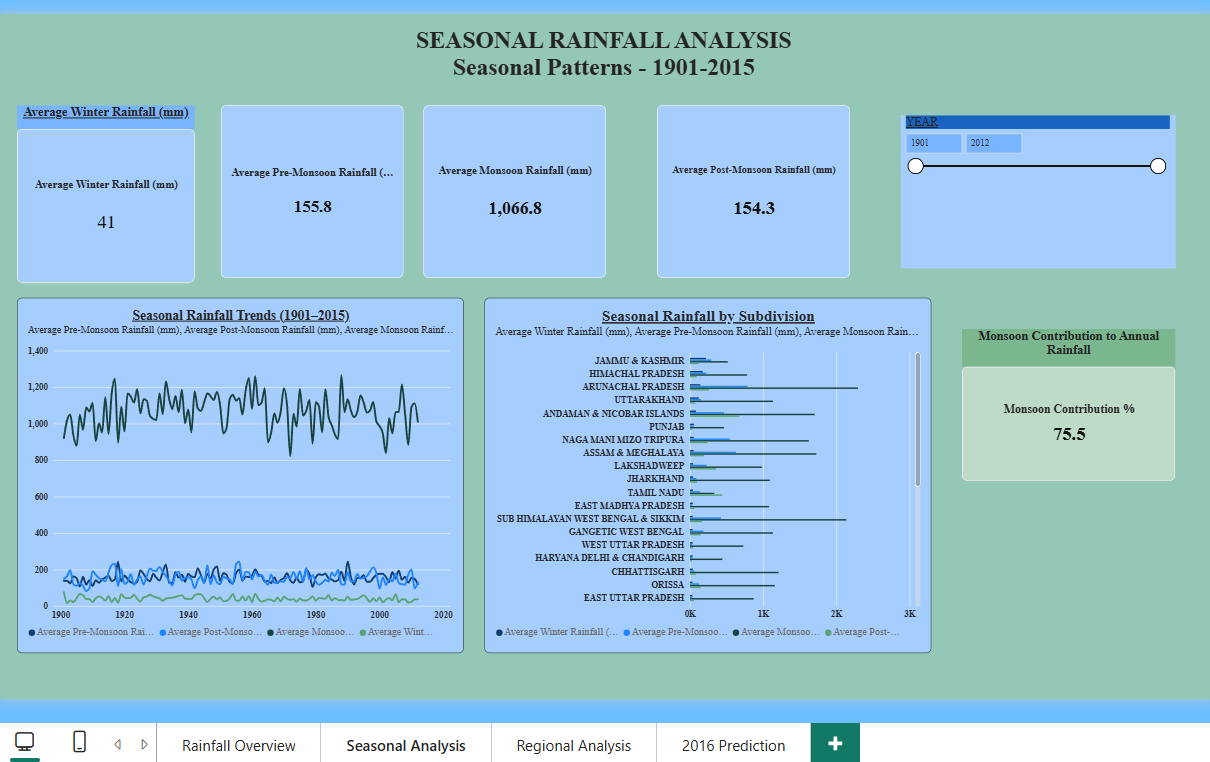

What the dashboard file says about the page in this screenshot:
{"tool":"powerbi","page":{"name":"Seasonal Analysis","canvas":[1920,1080],"ordinal":1},"visuals":[{"type":"cardVisual","title":"Average Winter Rainfall (mm)","fields":{"Data":["DimSubdivision.Average Winter Rainfall"]},"box":[32,144,280,280],"z":0},{"type":"cardVisual","fields":{"Data":["DimSubdivision.Average Pre-Monsoon Rainfall"]},"box":[352,144,288,272],"z":1000},{"type":"cardVisual","fields":{"Data":["DimSubdivision.Average Monsoon Rainfall"]},"box":[672,144,288,272],"z":2000},{"type":"cardVisual","fields":{"Data":["DimSubdivision.Average Post-Monsoon Rainfall"]},"box":[1040,144,304,272],"z":3000},{"type":"lineChart","title":"Seasonal Rainfall Trends (1901–2015)","fields":{"Category":["rainfall_cleaned.YEAR"],"Y":["DimSubdivision.Average Pre-Monsoon Rainfall (mm)","DimSubdivision.Average Post-Monsoon Rainfall (mm)","DimSubdivision.Average Monsoon Rainfall (mm)","DimSubdivision.Average Winter Rainfall (mm)"]},"box":[32,448,704,560],"z":4000},{"type":"clusteredBarChart","title":"Seasonal Rainfall by Subdivision","fields":{"Category":["DimSubdivision.SUBDIVISION"],"Y":["DimSubdivision.Average Winter Rainfall (mm)","DimSubdivision.Average Pre-Monsoon Rainfall (mm)","DimSubdivision.Average Monsoon Rainfall (mm)","DimSubdivision.Average Post-Monsoon Rainfall (mm)"]},"box":[768,448,704,560],"z":5000},{"type":"slicer","fields":{"Values":["rainfall_cleaned.YEAR"]},"box":[1424,160,432,240],"z":6000},{"type":"cardVisual","title":"Monsoon Contribution to Annual Rainfall","fields":{"Data":["DimSubdivision.Monsoon Contribution %"]},"box":[1520,496,336,240],"z":7000},{"type":"textbox","box":[744,792,624,288],"z":8000},{"type":"textbox","box":[0,0,1920,96],"z":9000}]}

Visuals, with their boxes on the page's 1920x1080 design canvas (x1, y1, x2, y2). These are canvas units, not pixel positions in the 1210x762 screenshot, which may show the page scaled, cropped or inside an application window:
"Average Winter Rainfall (mm)" cardVisual: x1=32 y1=144 x2=312 y2=424
cardVisual - DimSubdivision.Average Pre-Monsoon Rainfall: x1=352 y1=144 x2=640 y2=416
cardVisual - DimSubdivision.Average Monsoon Rainfall: x1=672 y1=144 x2=960 y2=416
cardVisual - DimSubdivision.Average Post-Monsoon Rainfall: x1=1040 y1=144 x2=1344 y2=416
"Seasonal Rainfall Trends (1901–2015)" lineChart: x1=32 y1=448 x2=736 y2=1008
"Seasonal Rainfall by Subdivision" clusteredBarChart: x1=768 y1=448 x2=1472 y2=1008
slicer - rainfall_cleaned.YEAR: x1=1424 y1=160 x2=1856 y2=400
"Monsoon Contribution to Annual Rainfall" cardVisual: x1=1520 y1=496 x2=1856 y2=736
textbox: x1=744 y1=792 x2=1368 y2=1080
textbox: x1=0 y1=0 x2=1920 y2=96
